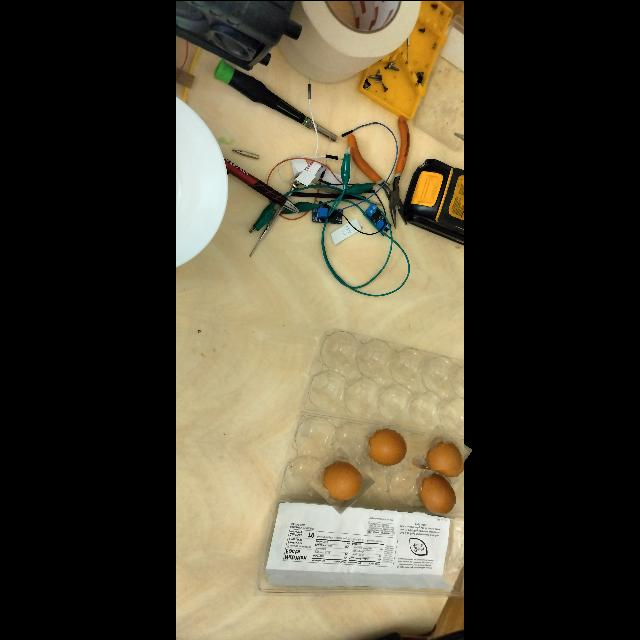Egg: (311, 450, 369, 510), (416, 428, 468, 482), (361, 420, 409, 470), (413, 468, 459, 518)
